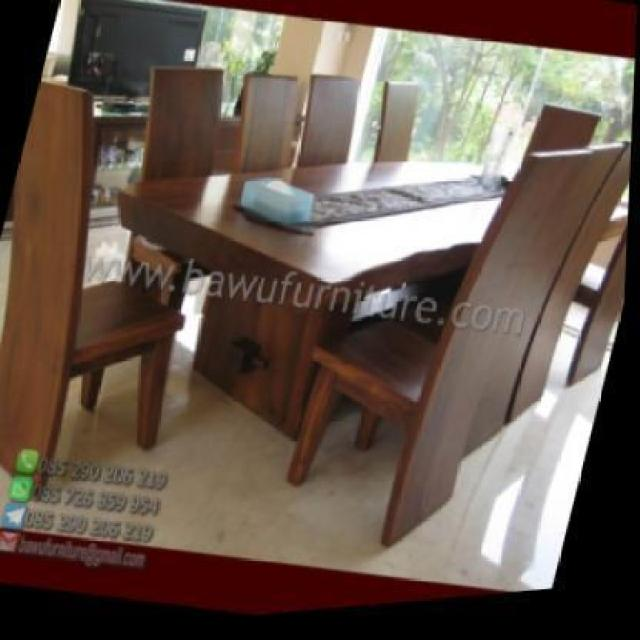tables: (115, 157, 628, 445)
